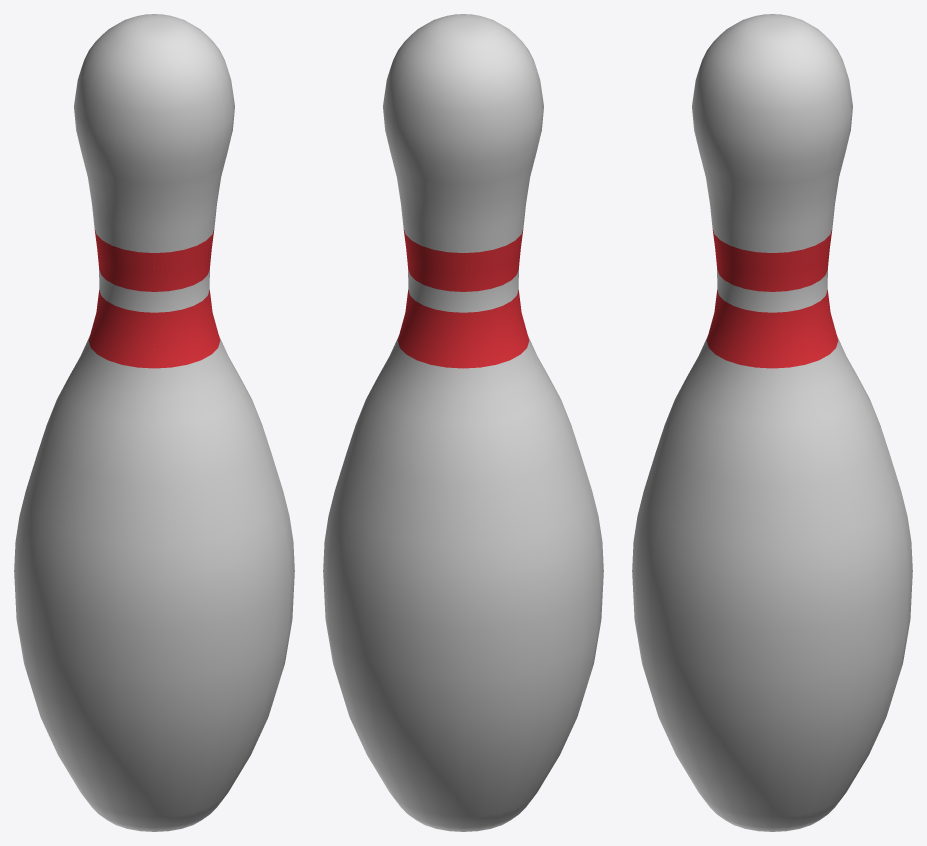
3 renders of one model, left to right at view 1: azimuth 30°, elevation 25°; view 2: azimuth 150°, elevation 25°; view 3: azimuth 270°, elevation 25°, orthographic.
Parts seen in each view (by area): view 1: Bowling Pin; view 2: Bowling Pin; view 3: Bowling Pin.
Part boxes in pixels (bbox=[...]): Bowling Pin: bbox=[14, 14, 294, 831]; Bowling Pin: bbox=[323, 14, 603, 831]; Bowling Pin: bbox=[632, 14, 912, 831].
Size of the model in its own units: 12.32 by 38.26 by 12.32.
